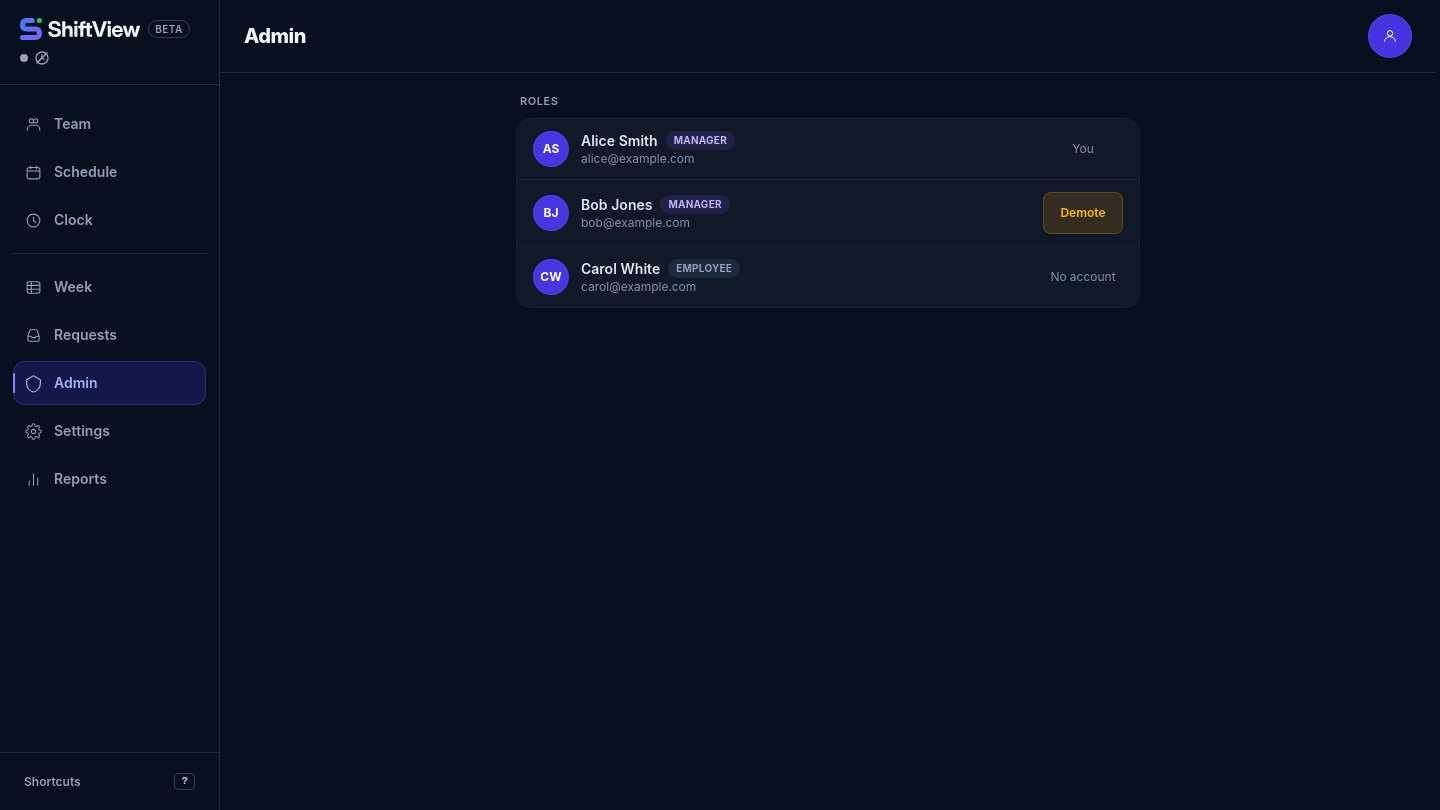
AdminPageClient › optimistically toggles Manager → Employee when Demote is clicked
Expected: the text "Bob Jones" is shown, [581,194,652,214]
What coordinates should you click on to do the following:
click the button with aria-label "demote bob"
I would click on:
 (1083, 212)
Its box is [1043,192,1123,234].
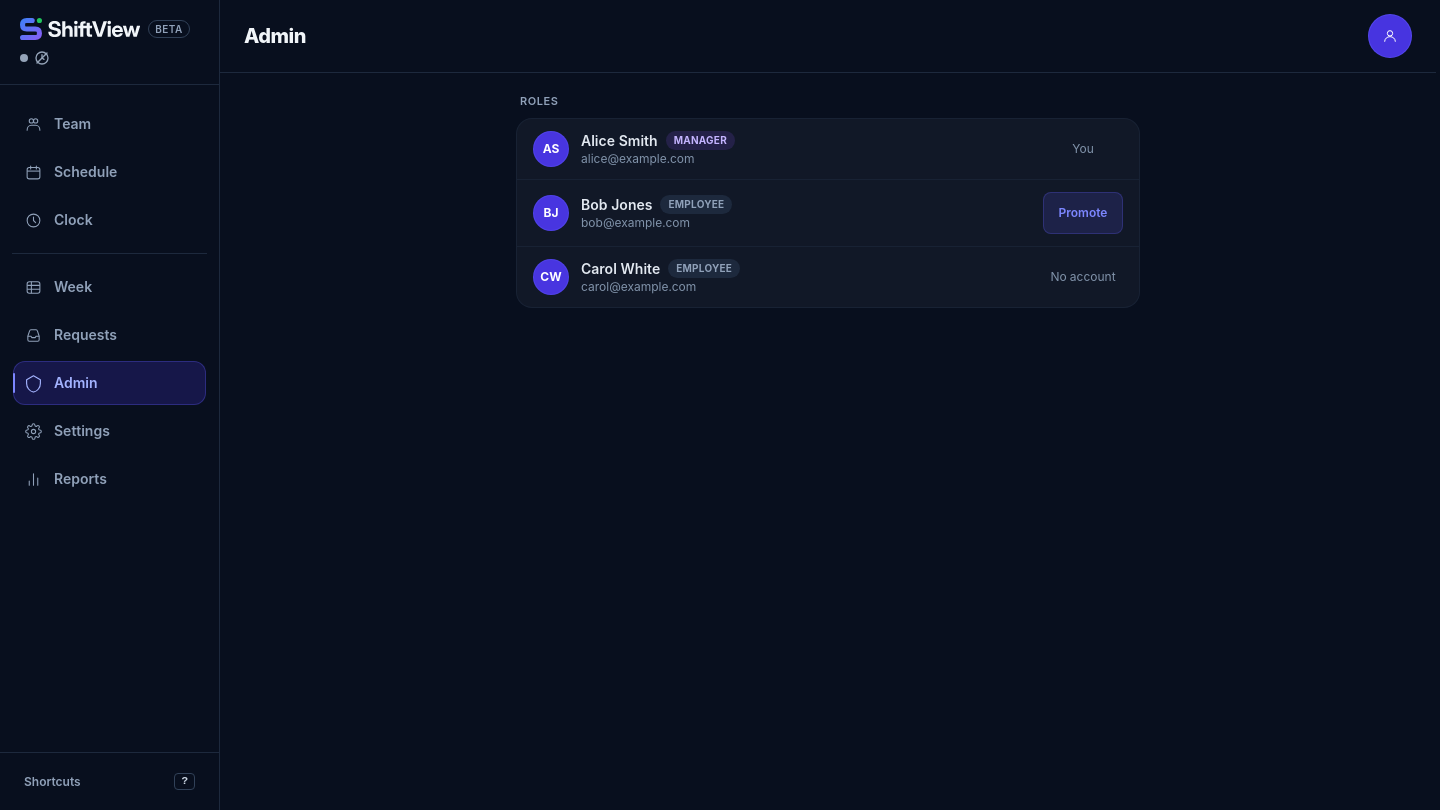
Expected: the button with aria-label "promote bob" is shown, [1043,192,1123,234]
